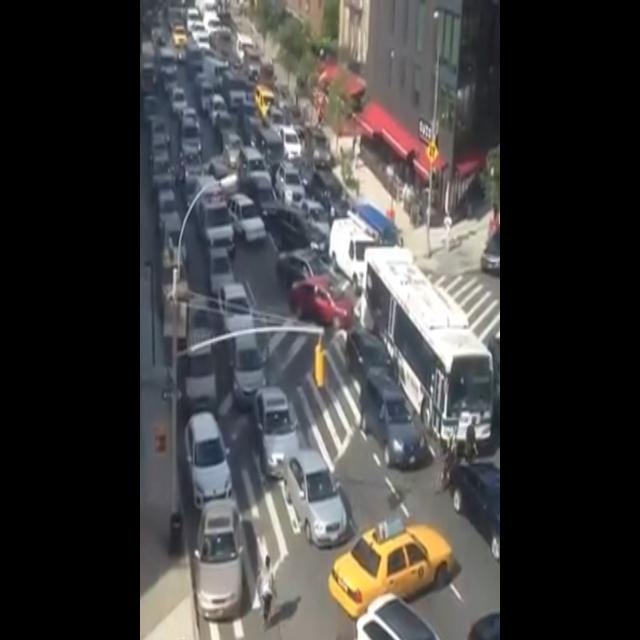Ambulance: (192, 171, 242, 261)
